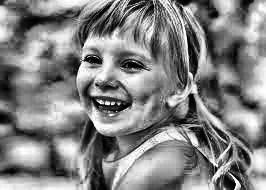happy: (72, 1, 219, 167)
